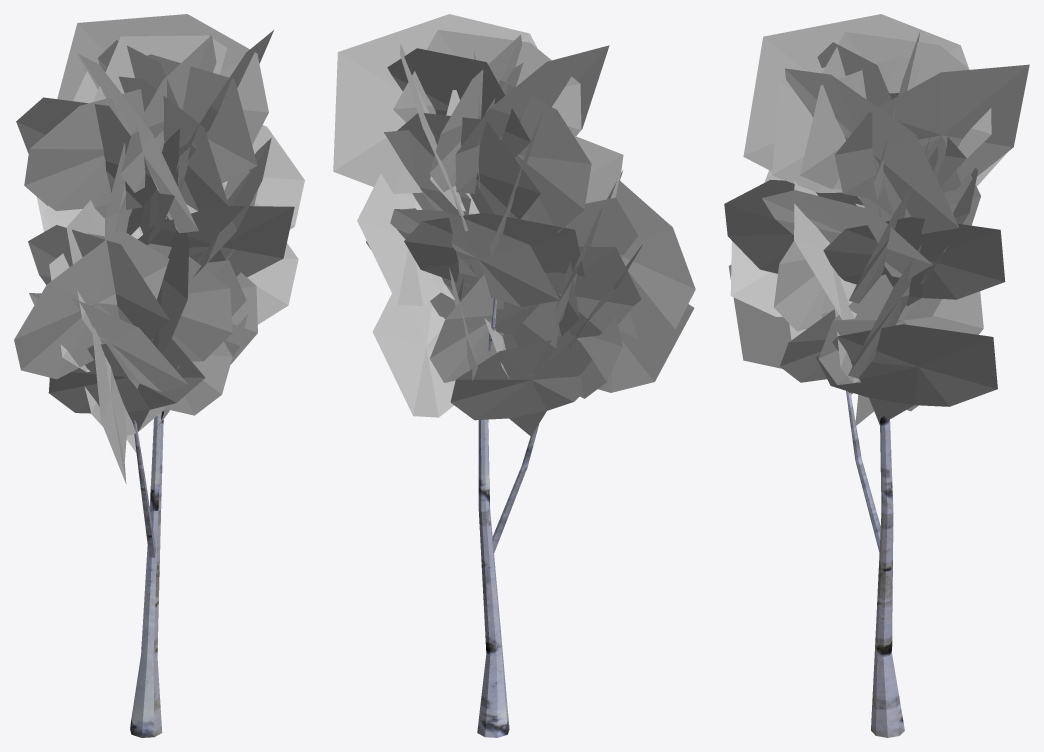
Rendered from Birch_002.fbx.
The picture shows the model from 3 angles, left to right: view 1: azimuth 30°, elevation 25°; view 2: azimuth 150°, elevation 25°; view 3: azimuth 270°, elevation 25°; orthographic projection.
Parts seen in each view (by area): view 1: Tree_Birch_Leaves2, Tree_Birch_Trunk2; view 2: Tree_Birch_Leaves2, Tree_Birch_Trunk2; view 3: Tree_Birch_Leaves2, Tree_Birch_Trunk2.
Boxes of the visible parts, box(x1,y1,x2,y2) form: Tree_Birch_Leaves2: box(14, 14, 304, 484); Tree_Birch_Trunk2: box(130, 410, 163, 737); Tree_Birch_Leaves2: box(333, 14, 695, 436); Tree_Birch_Trunk2: box(477, 298, 538, 737); Tree_Birch_Leaves2: box(724, 14, 1029, 426); Tree_Birch_Trunk2: box(846, 391, 904, 737).
Bounding box in the file's own units: 954 × 1987 × 791.
